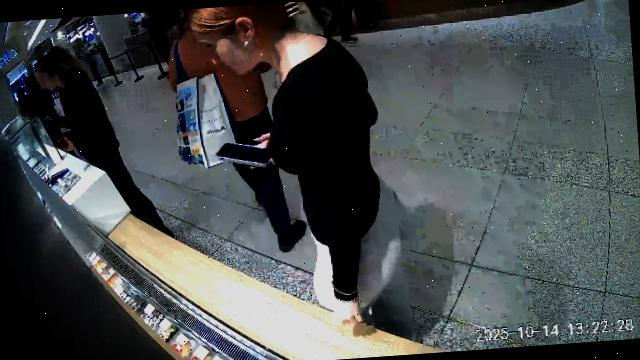sushi-box: (51, 170, 82, 196)
